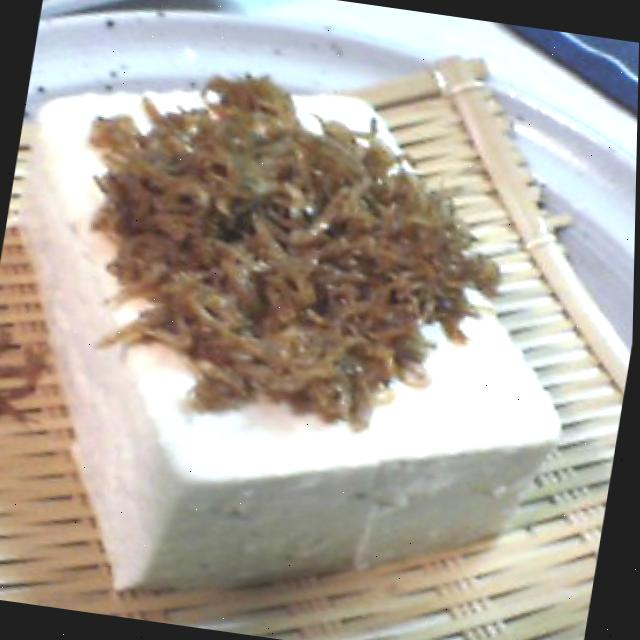豆腐料理: (0, 37, 613, 640)
